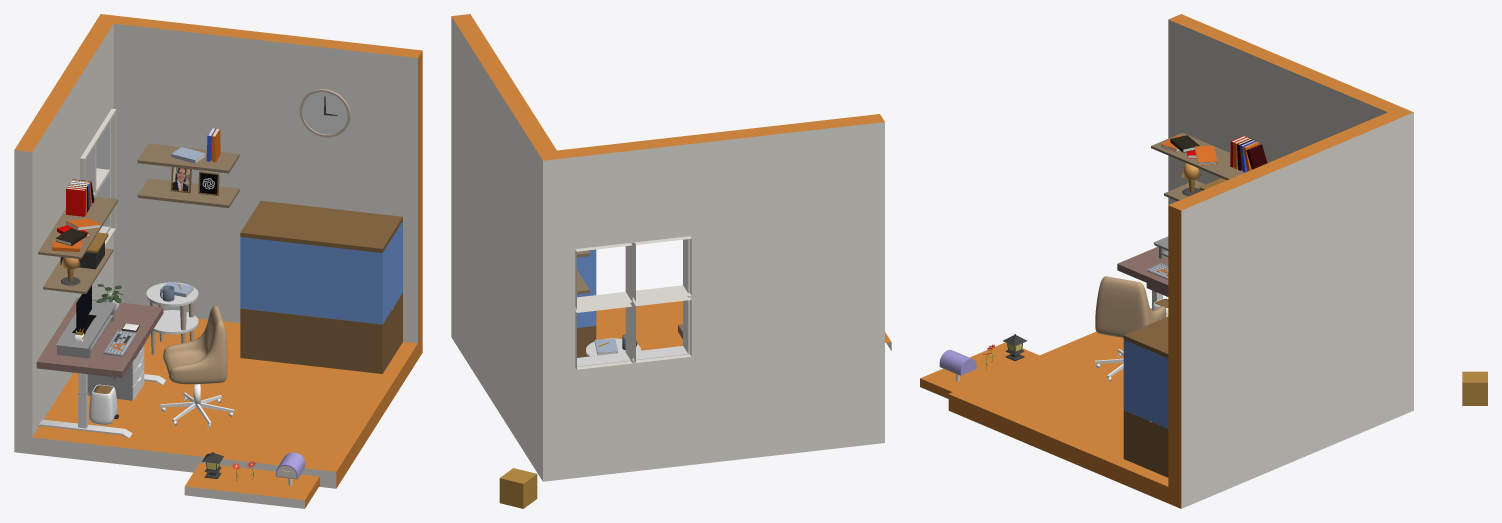
The model's file is house 4.glb.
3 views of the same model, side by side, from view 1: azimuth 30°, elevation 25°; view 2: azimuth 150°, elevation 25°; view 3: azimuth 270°, elevation 25° (orthographic). The views are drawn at different scales.
Visible parts, largest first — view 1: Room, Fish Tank, Table Base, Shelf 1, Shelf 2, Garden Floor, Chair seat, Desk Content, Stool, Clock, Chair, Mailbox (+1 smaller); view 2: Room, Fish Tank, cubicle, Stool; view 3: Room, Fish Tank, Shelf 1, Chair seat, Garden Floor, Table Base, cubicle, Mailbox.
Boxes of the visible parts, x1,y1,x2,y2 form: Room: [14, 14, 422, 488]; Fish Tank: [240, 200, 402, 373]; Table Base: [36, 297, 165, 437]; Shelf 1: [38, 179, 117, 293]; Shelf 2: [137, 128, 239, 208]; Garden Floor: [184, 463, 319, 508]; Chair seat: [163, 305, 227, 384]; Desk Content: [55, 284, 139, 358]; Stool: [146, 281, 198, 354]; Clock: [299, 89, 350, 137]; Chair: [160, 384, 234, 427]; Mailbox: [275, 452, 305, 485]; Room: [451, 14, 884, 481]; Fish Tank: [577, 249, 596, 357]; cubicle: [499, 468, 537, 508]; Stool: [586, 334, 640, 356]; Room: [948, 14, 1413, 508]; Fish Tank: [1123, 316, 1168, 477]; Shelf 1: [1151, 132, 1267, 201]; Chair seat: [1095, 276, 1166, 337]; Garden Floor: [920, 342, 1039, 398]; Table Base: [1117, 246, 1168, 317]; cubicle: [1462, 371, 1487, 405]; Mailbox: [939, 349, 976, 381].
Size of the model in its own units: 23.29 by 16.47 by 28.41.
80 materials, 3 textured.
